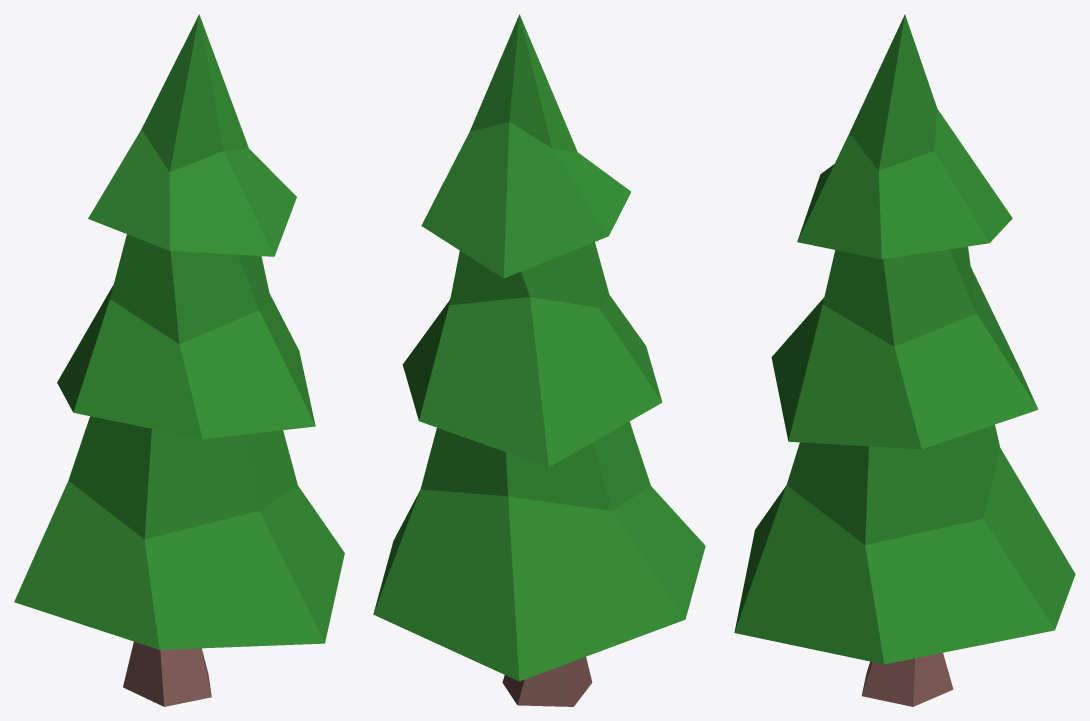
The model's file is arbol pino 2.fbx.
3 views of the same model, side by side, from view 1: azimuth 30°, elevation 25°; view 2: azimuth 150°, elevation 25°; view 3: azimuth 270°, elevation 25° (orthographic). The views are drawn at different scales.
Visible parts, largest first — view 1: SpruceTree1; view 2: SpruceTree1; view 3: SpruceTree1.
Part boxes in pixels (box(x1,y1,x2,y2)): SpruceTree1: box(14, 14, 344, 706); SpruceTree1: box(373, 14, 705, 706); SpruceTree1: box(734, 14, 1075, 706).
Size of the model in its own units: 12557 by 25719 by 11583.
